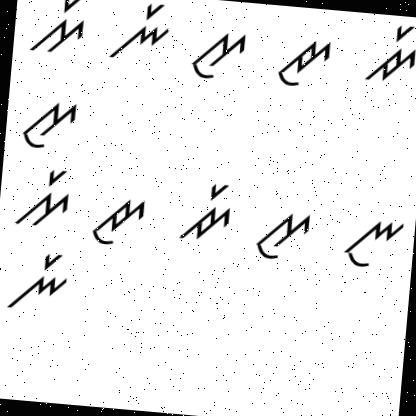jar: (173, 178, 236, 249), (361, 21, 416, 88)
jaw: (84, 190, 150, 250), (272, 30, 334, 91)
nyar: (3, 246, 74, 315), (105, 0, 173, 65)
nyaw: (341, 210, 407, 272)
sar: (13, 164, 73, 236), (26, 0, 90, 59)
saw: (13, 92, 84, 158), (186, 20, 252, 84), (252, 204, 315, 267)
